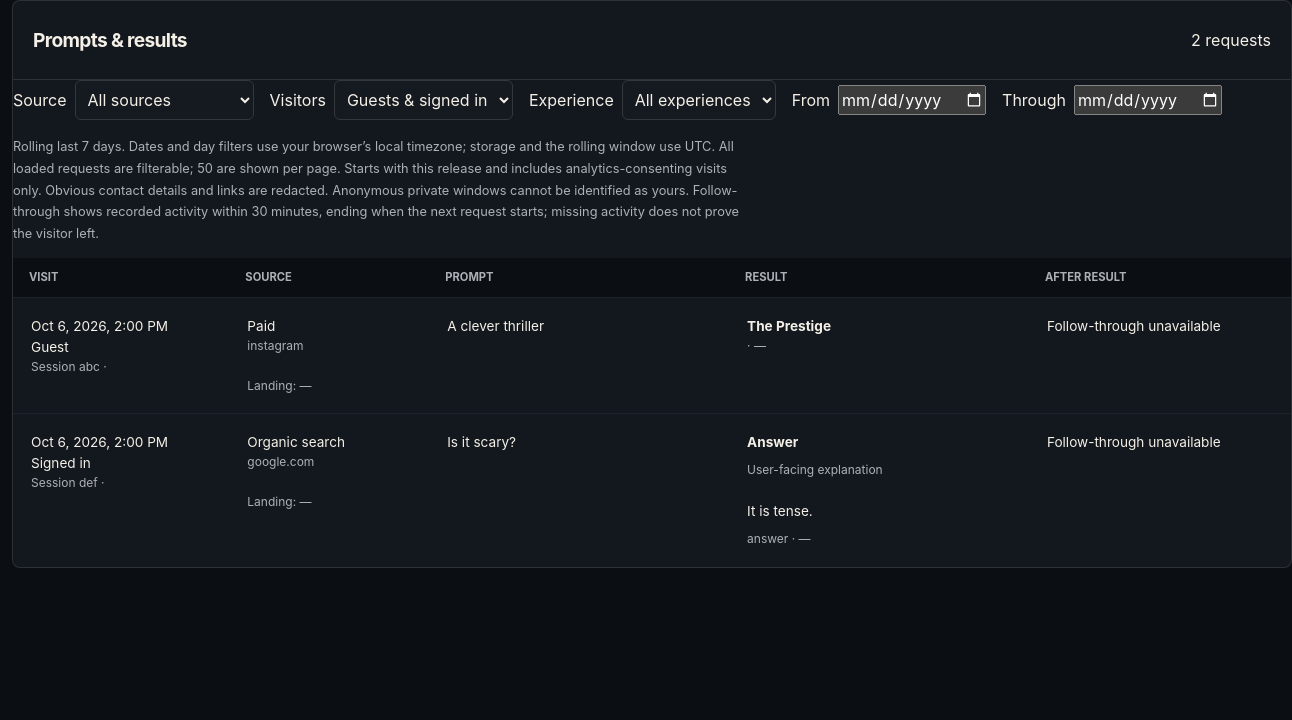
Test case: filters requests by acquisition source and guest status while showing the actual prompt/result
Expected: the text "The Prestige" is shown, [747, 318, 831, 334]
Select "Guests" in the dropdown labelled "Visitors" at point(423, 100), box [334, 80, 513, 120]
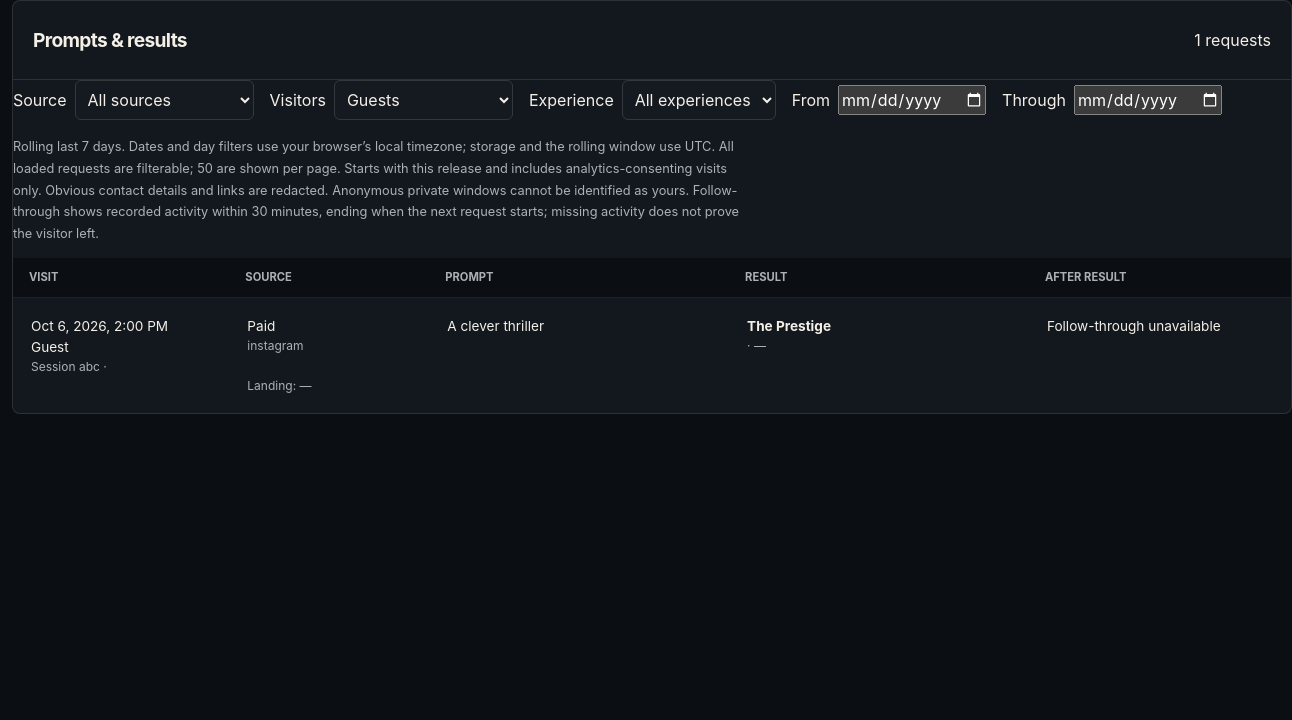
Expected: the text "Is it scary?" is gone
Select "Organic search" in the dropdown labelled "Source" at point(164, 100), box [74, 80, 254, 120]
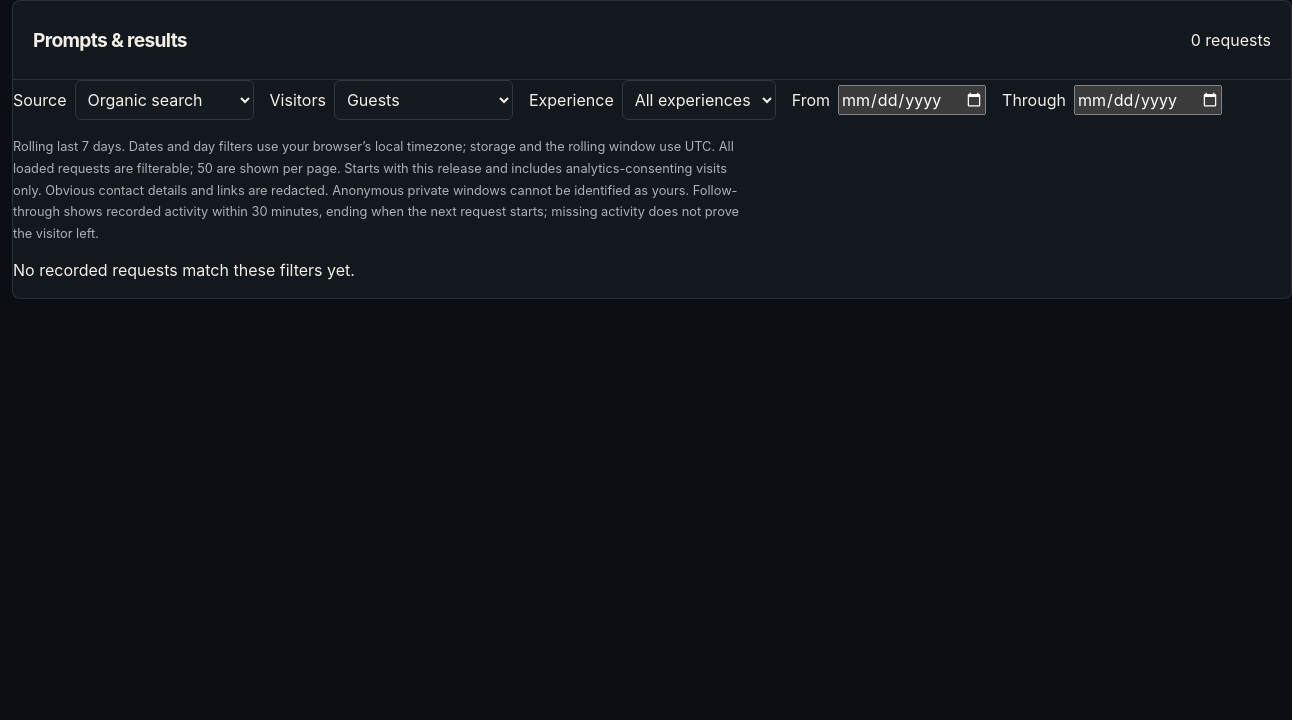
Expected: the text "A clever thriller" is gone
Expected: the text "No recorded requests match these filters yet." is shown, [13, 260, 355, 280]
